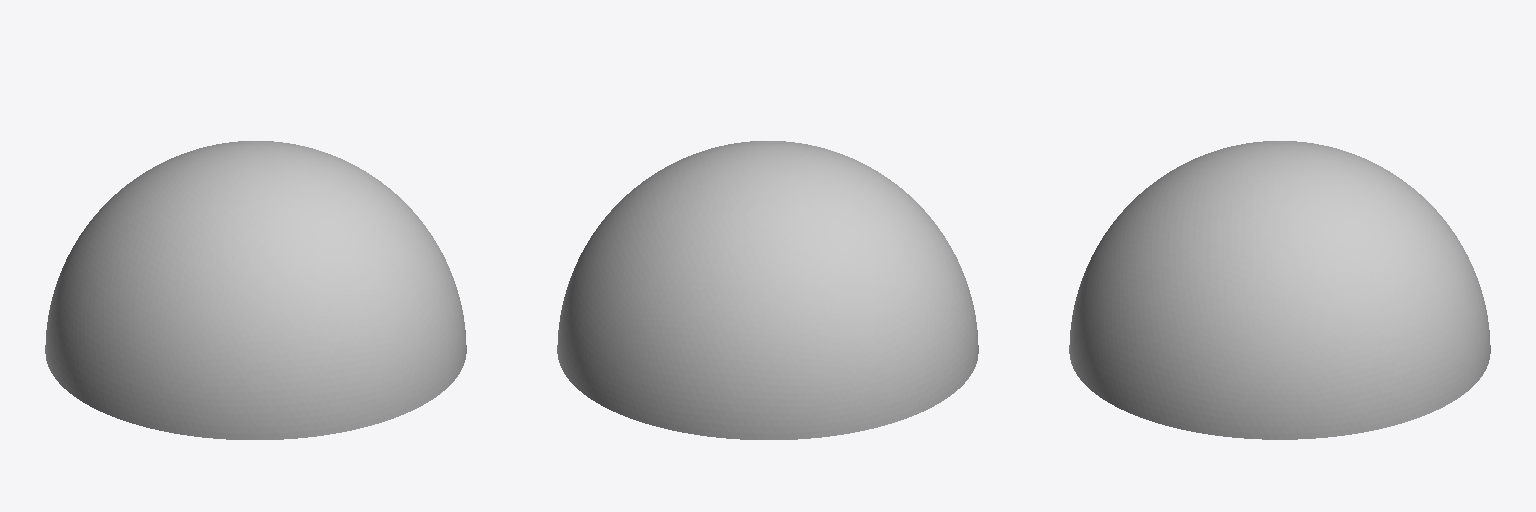
File: TurretBody.obj
3 views of the same model, side by side, from view 1: azimuth 30°, elevation 25°; view 2: azimuth 150°, elevation 25°; view 3: azimuth 270°, elevation 25° (orthographic).
Visible parts, largest first — view 1: Icosphere; view 2: Icosphere; view 3: Icosphere.
Boxes of the visible parts, <box> form: Icosphere: <box>45,141,466,439</box>; Icosphere: <box>557,141,978,439</box>; Icosphere: <box>1069,141,1490,439</box>.
Bounding box in the file's own units: 4 × 2 × 4.